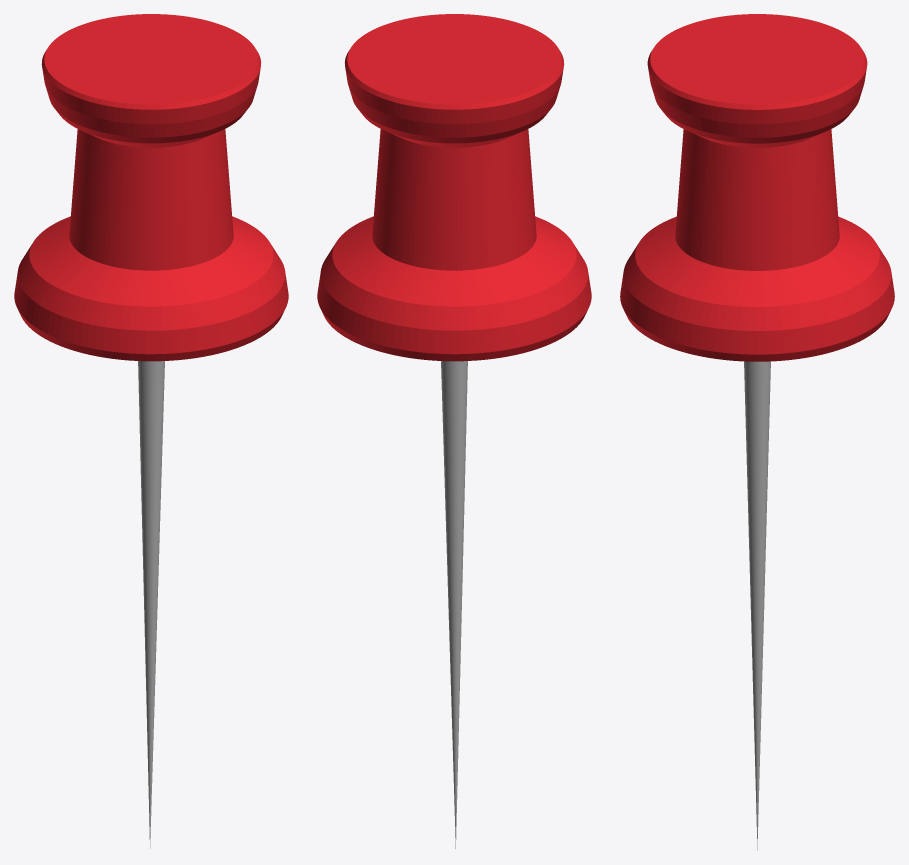
The model's file is pinTrap.fbx.
The picture shows the model from 3 angles, left to right: view 1: azimuth 30°, elevation 25°; view 2: azimuth 150°, elevation 25°; view 3: azimuth 270°, elevation 25°; orthographic projection.
Parts seen in each view (by area): view 1: Cylinder, Cone; view 2: Cylinder, Cone; view 3: Cylinder, Cone.
Boxes of the visible parts, x1,y1,x2,y2 form: Cylinder: (14,14,288,361); Cone: (138,361,164,848); Cylinder: (317,14,591,361); Cone: (441,361,467,848); Cylinder: (620,14,894,361); Cone: (744,361,770,850).
Size of the model in its own units: 81.21 by 258 by 81.21.
